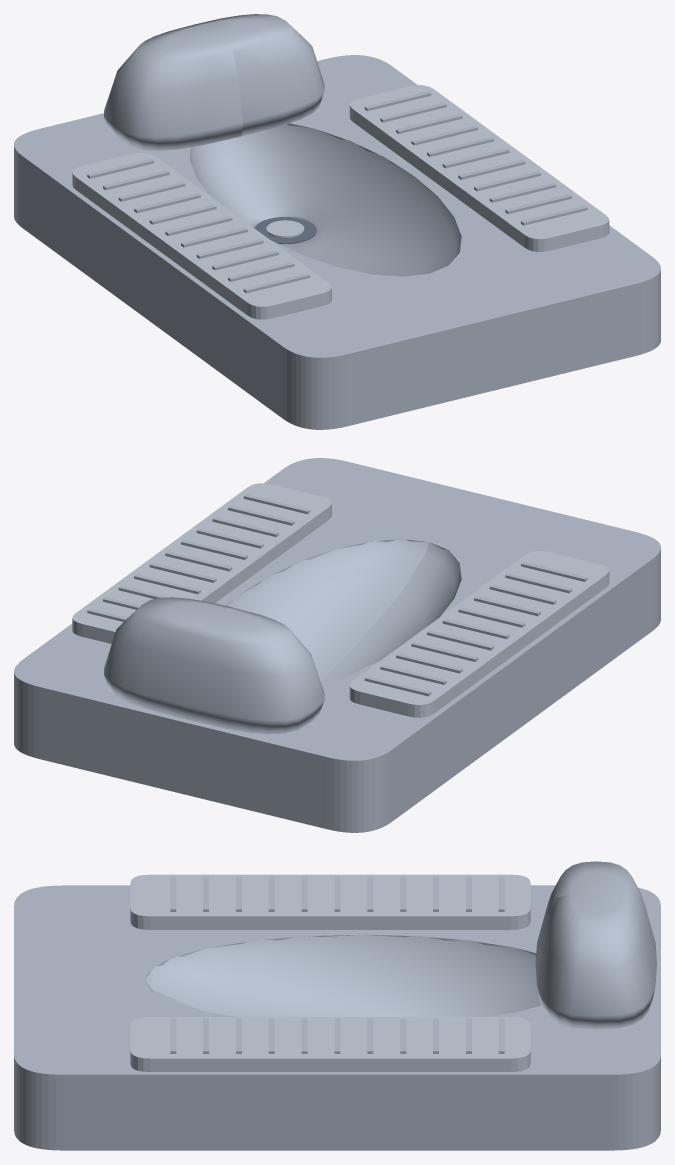
The picture shows the model from 3 angles, top to bottom: view 1: azimuth 30°, elevation 25°; view 2: azimuth 150°, elevation 25°; view 3: azimuth 270°, elevation 25°; orthographic projection. The views are drawn at different scales.
Parts seen in each view (by area): view 1: squattoilet; view 2: squattoilet; view 3: squattoilet.
Part boxes in pixels (x1,y1,x2,y2): squattoilet: [14, 14, 660, 429]; squattoilet: [14, 458, 660, 832]; squattoilet: [14, 861, 660, 1150].
Size of the model in its own units: 0.45 by 0.18 by 0.65.
